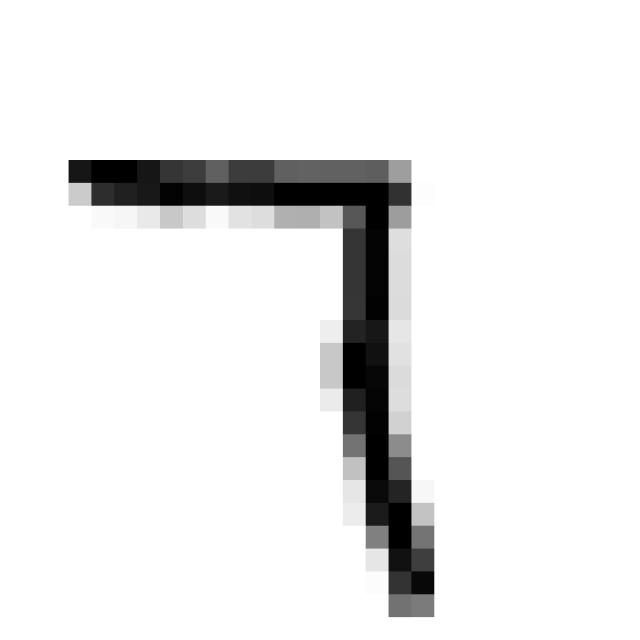6 -six-: (48, 133, 453, 632)
